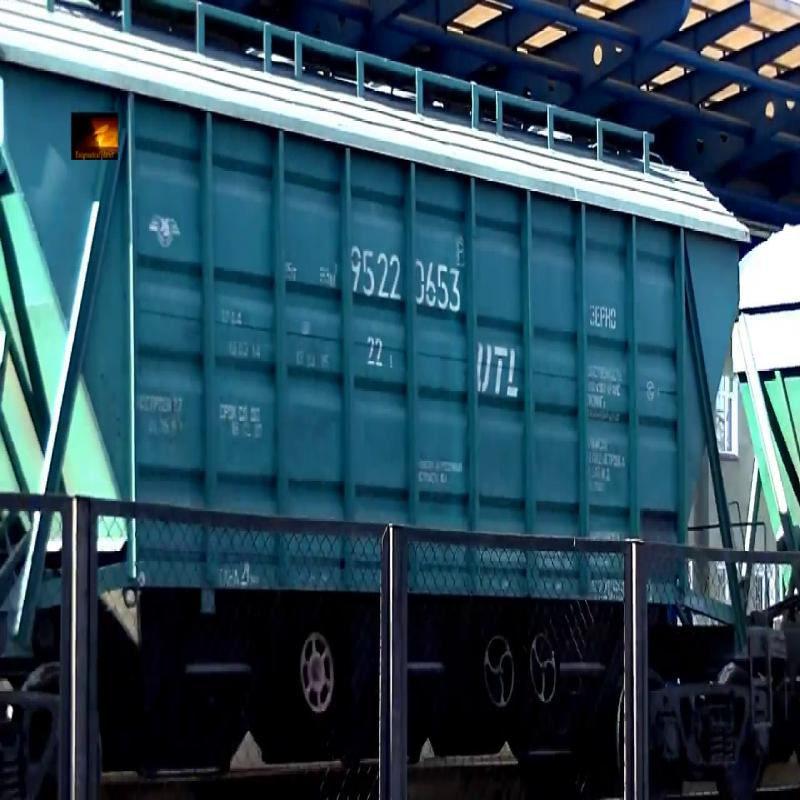train: (2, 9, 783, 781)
